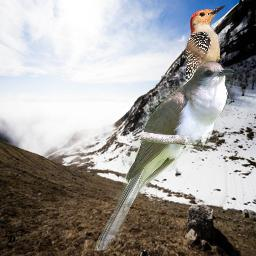Cuckoo: (94, 61, 234, 252)
Woodpecker: (185, 4, 226, 107)
